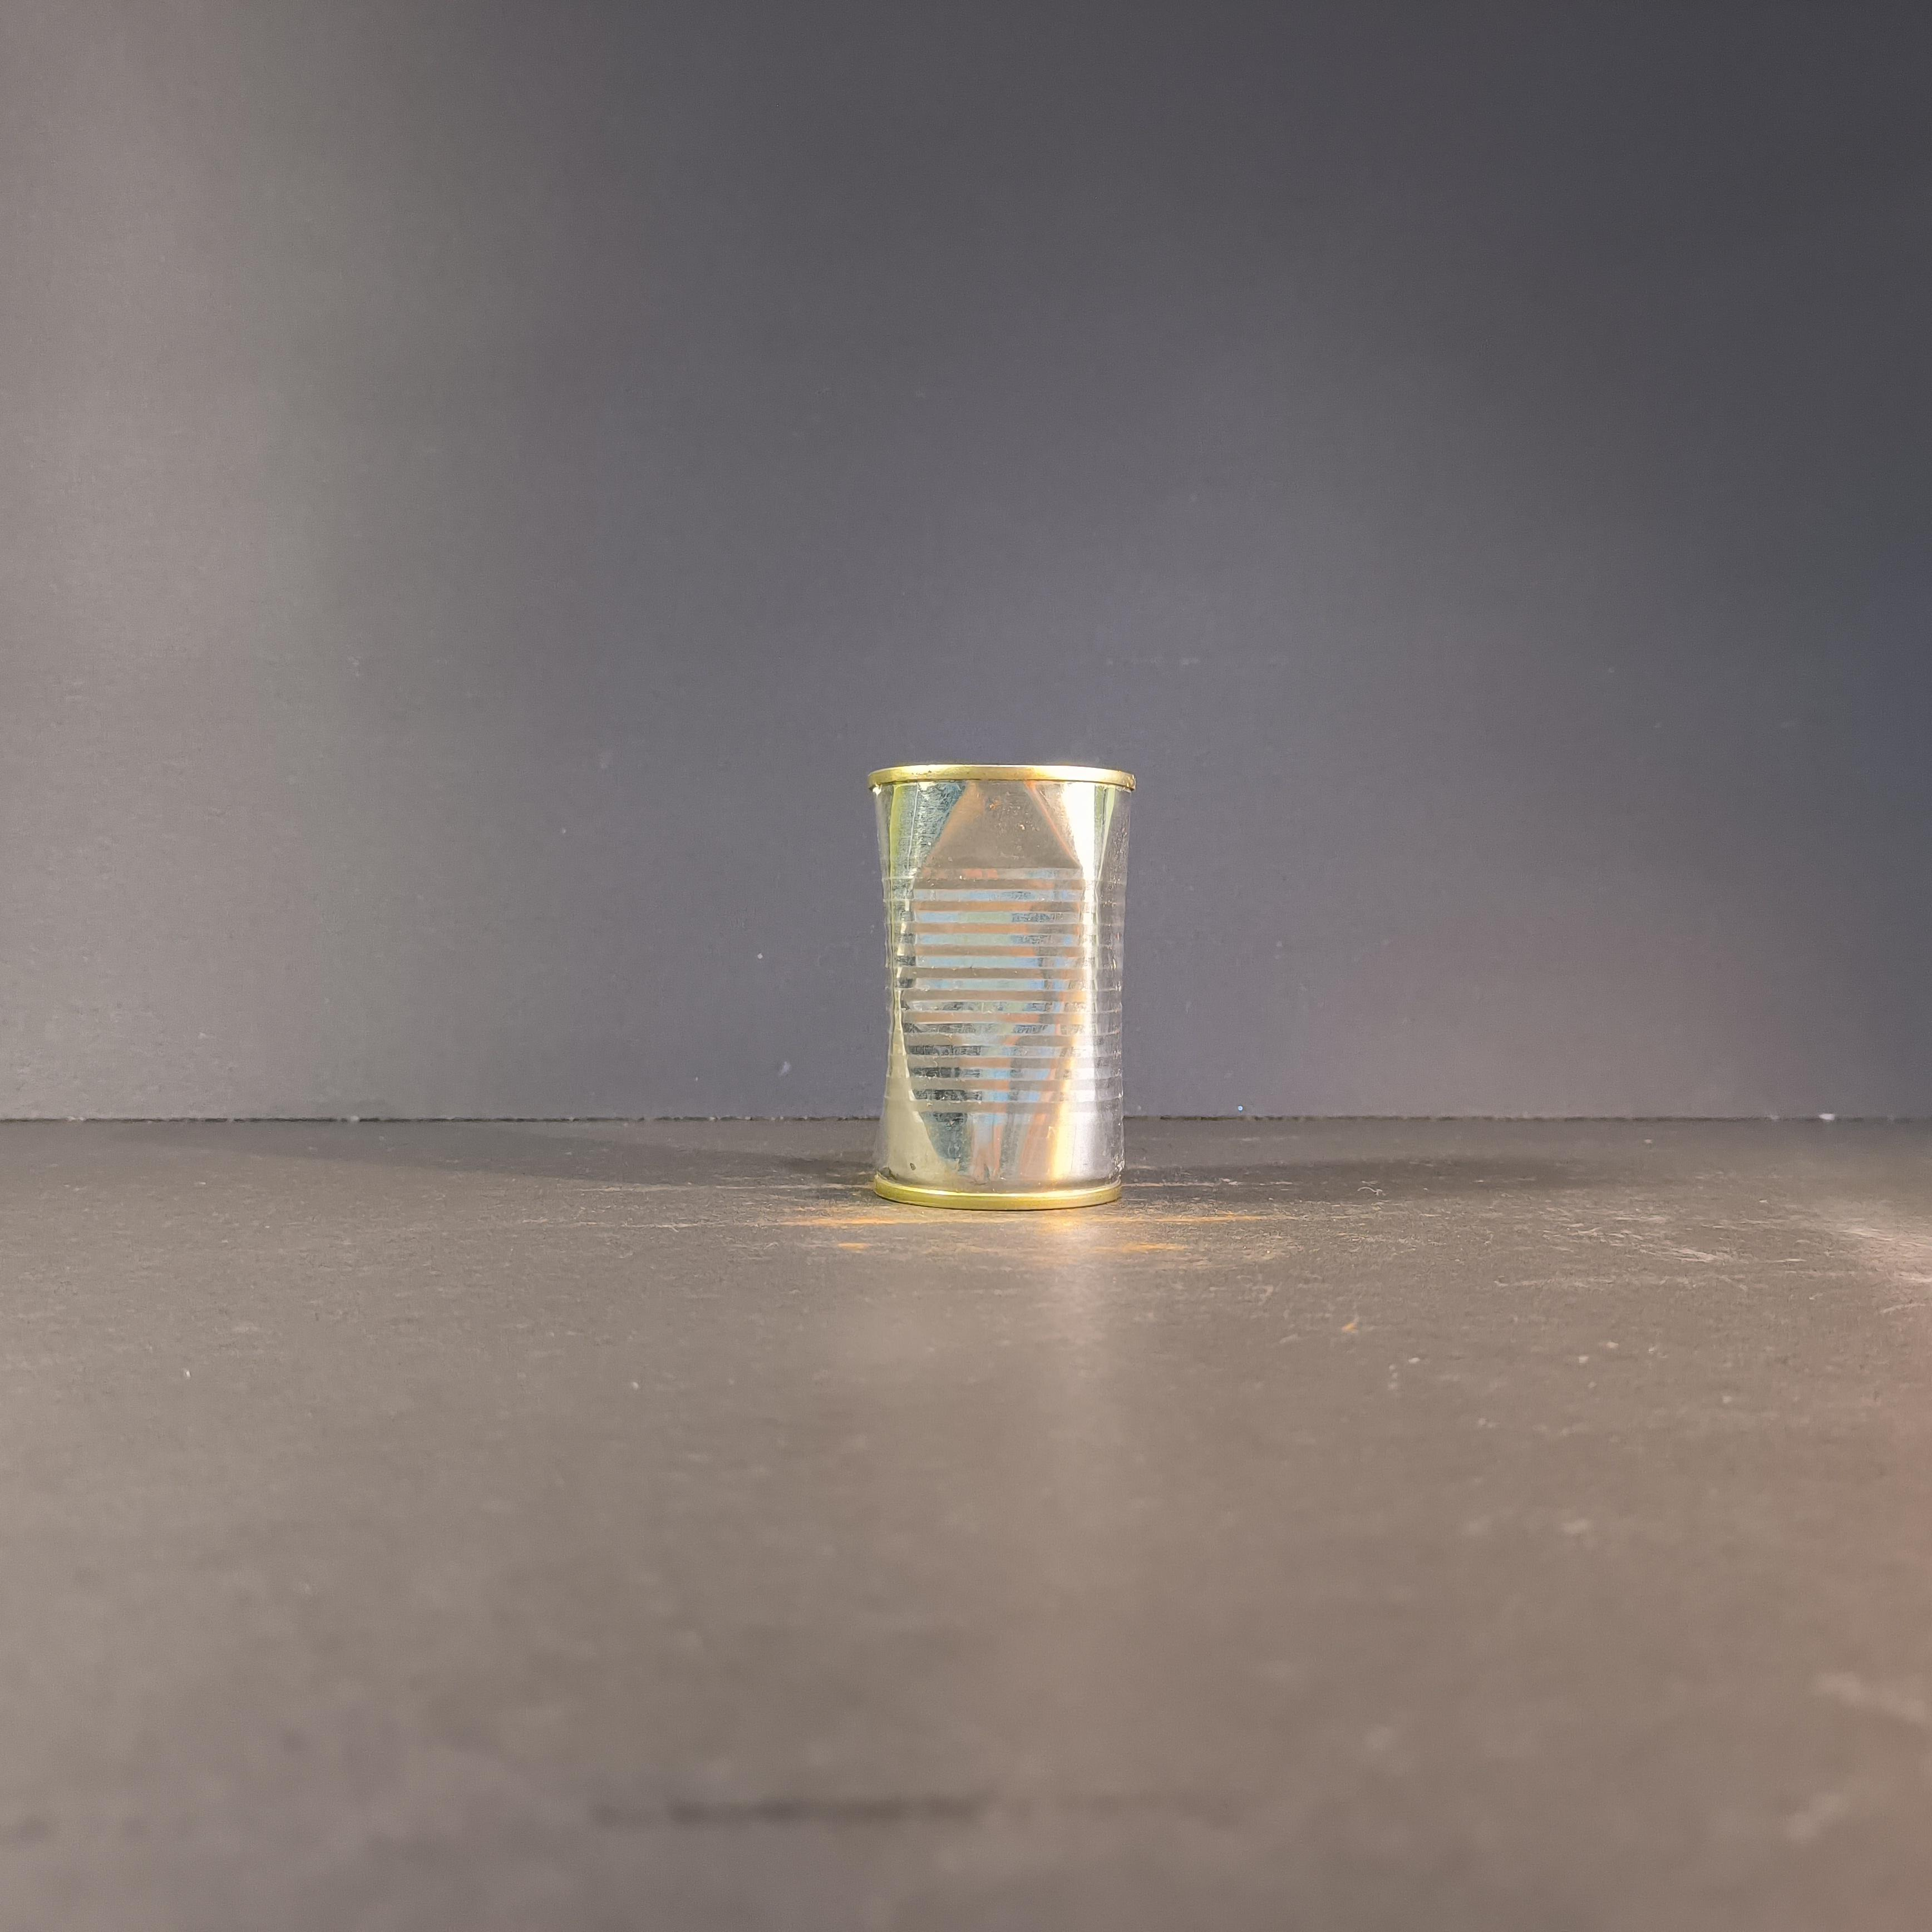Dented: (842, 745, 1157, 1221)
